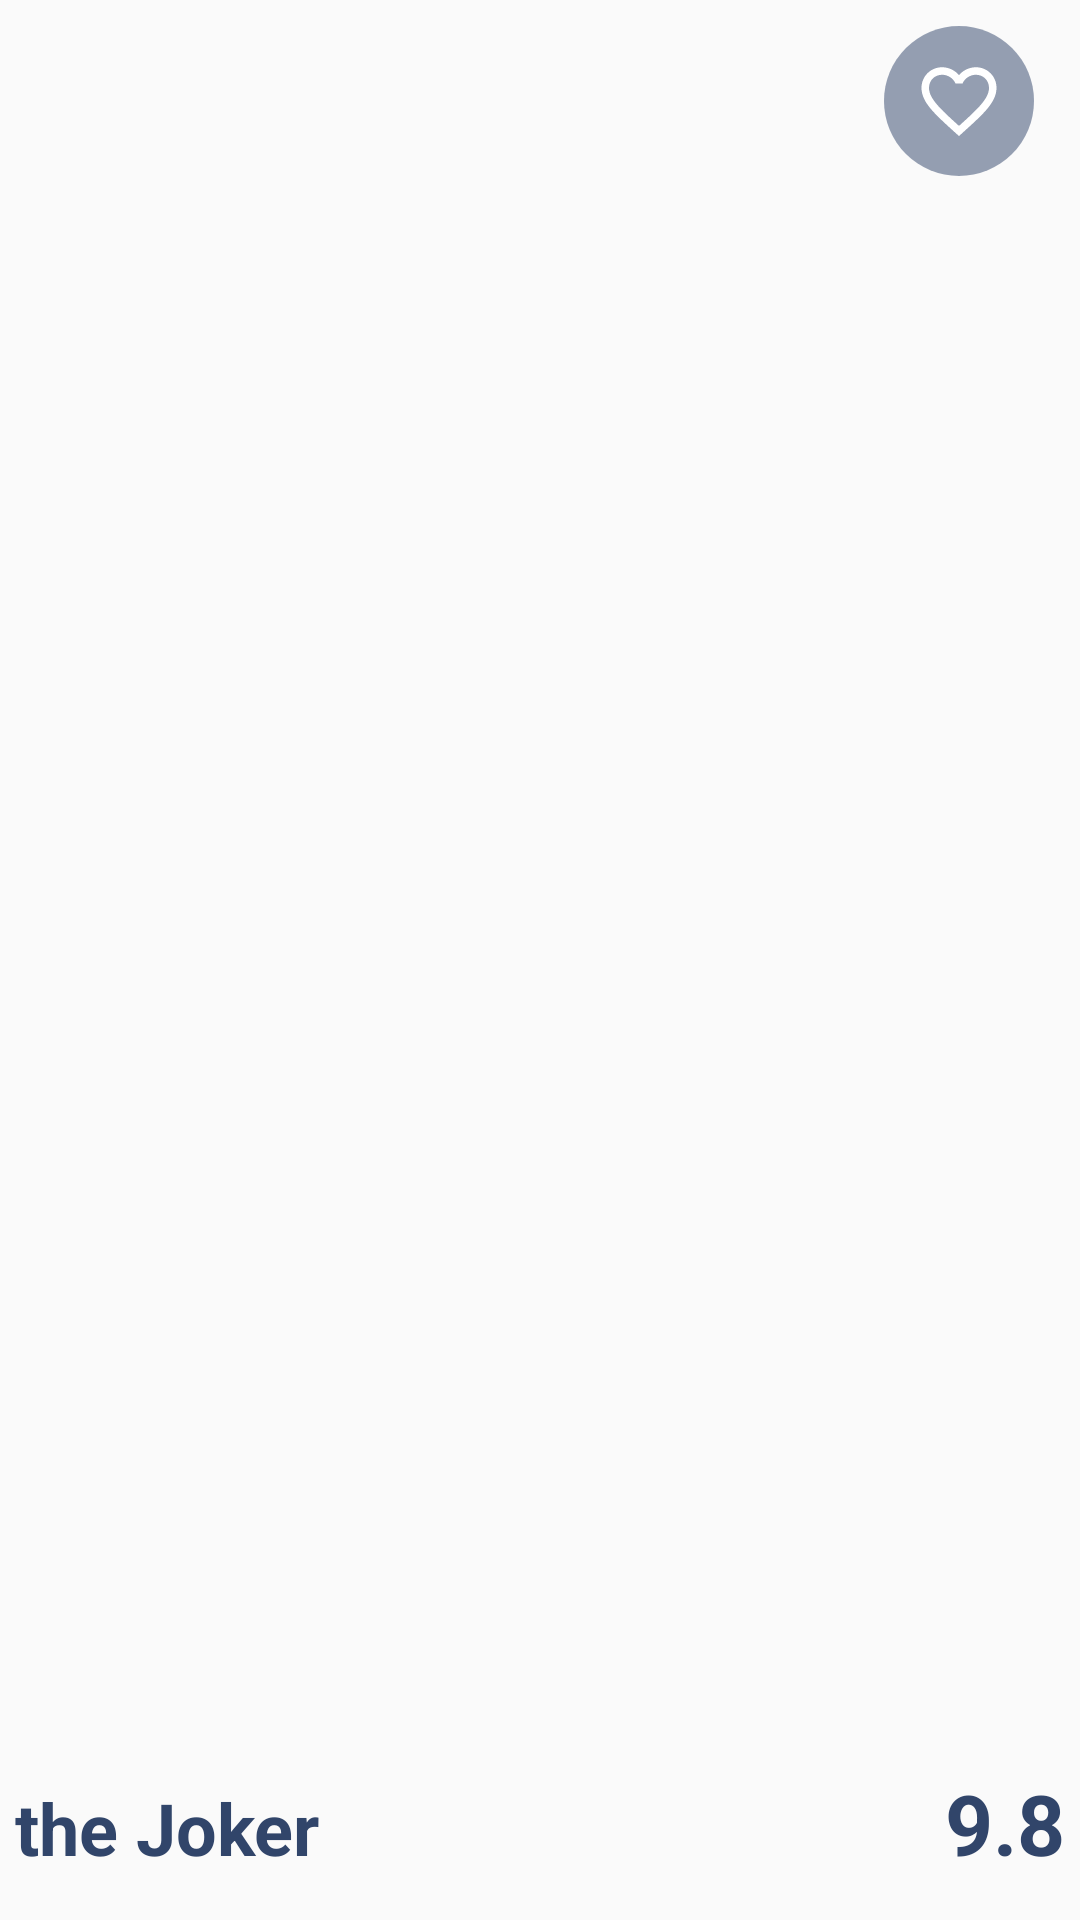

Named icons in this screenshot (1080 × 1920) and their centers, [x,y]:
favorite border: [959,101]
